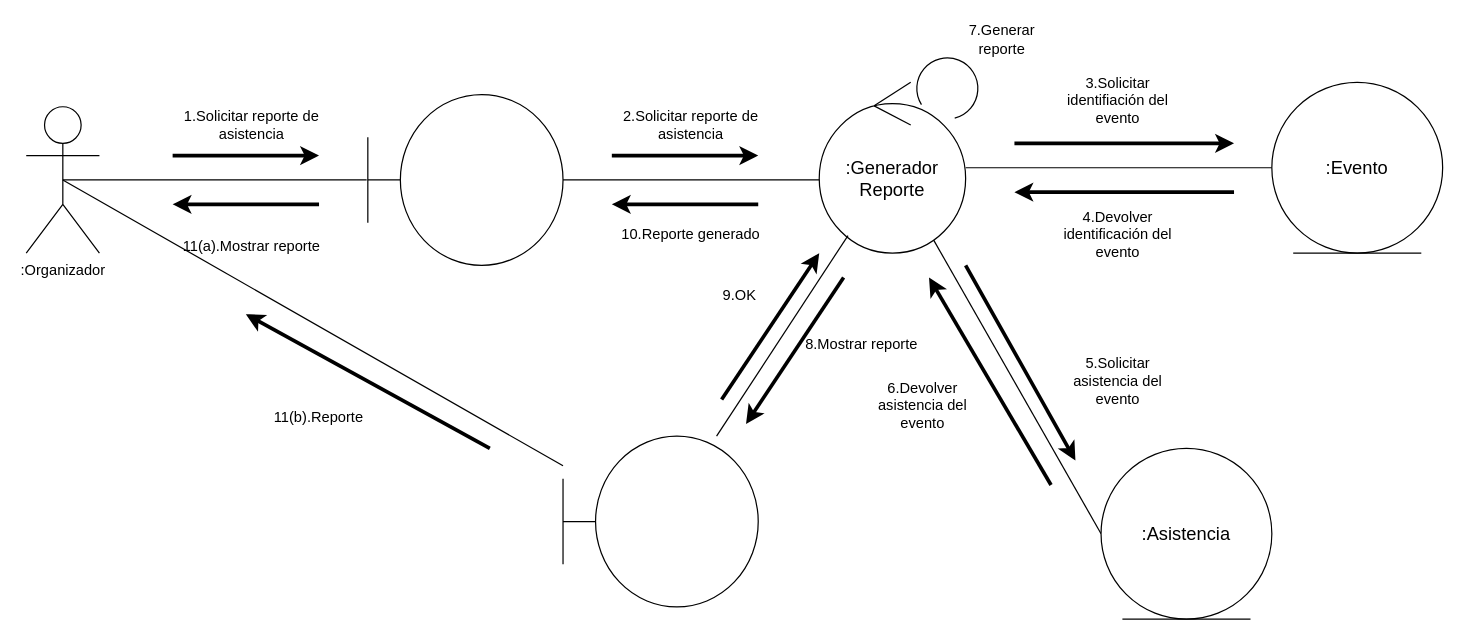
Some shapes in this 1464 by 641 pixel diagram are drawn without their labels. The box of each missing label's shape, as (x1, y1, x2, y2) in pixels:
:PantallaEvento: (367, 93, 563, 265)
:ReporteAsistencia: (562, 435, 758, 607)
